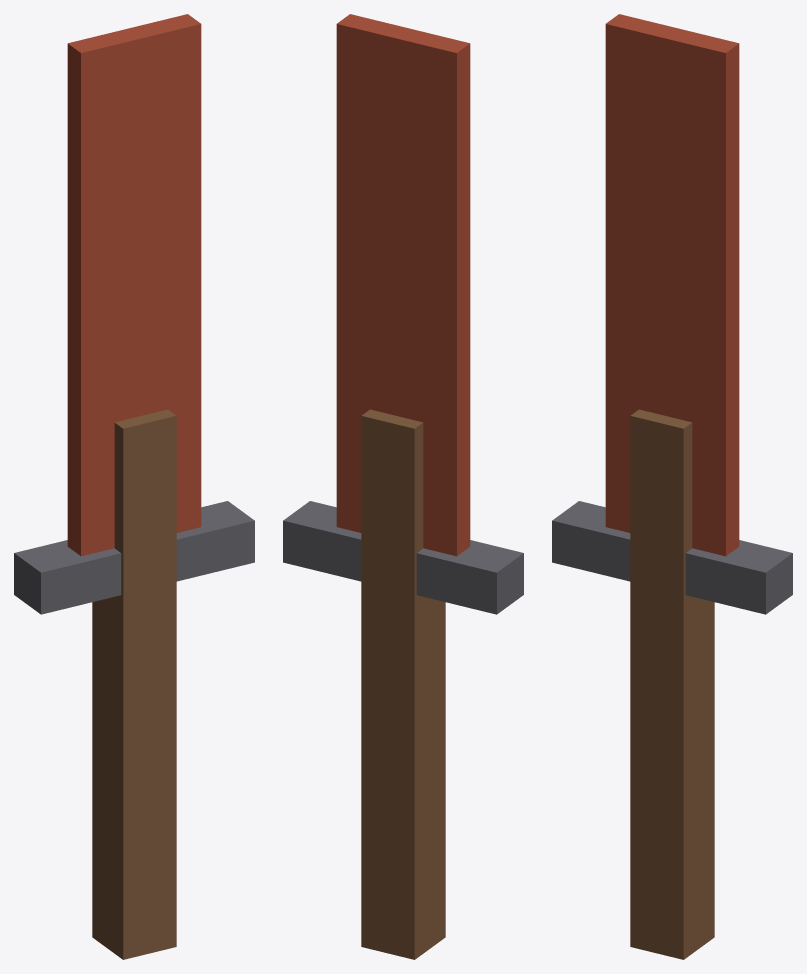
Rendered from rusty-blade-prototype.glb.
3 views of the same model, side by side, from view 1: azimuth 30°, elevation 25°; view 2: azimuth 150°, elevation 25°; view 3: azimuth 330°, elevation 25° (orthographic).
Visible parts, largest first — view 1: chipped-blade, wrapped-handle, bent-guard; view 2: chipped-blade, wrapped-handle, bent-guard; view 3: chipped-blade, wrapped-handle, bent-guard.
Boxes of the visible parts, <box> form: chipped-blade: <box>67,14,201,556</box>; wrapped-handle: <box>92,409,176,959</box>; bent-guard: <box>14,501,254,614</box>; chipped-blade: <box>336,14,470,556</box>; wrapped-handle: <box>361,409,445,959</box>; bent-guard: <box>283,501,523,614</box>; chipped-blade: <box>605,14,739,556</box>; wrapped-handle: <box>630,409,714,959</box>; bent-guard: <box>552,501,792,614</box>.
Bounding box in the file's own units: 0.32 × 1.3 × 0.08.
